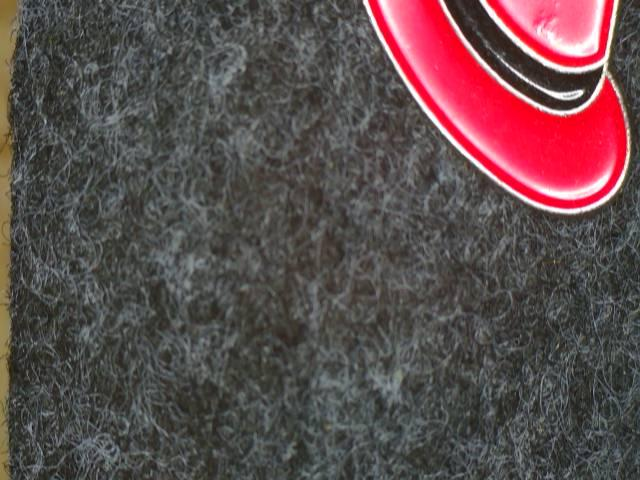Red-Hat: (351, 0, 634, 241)
